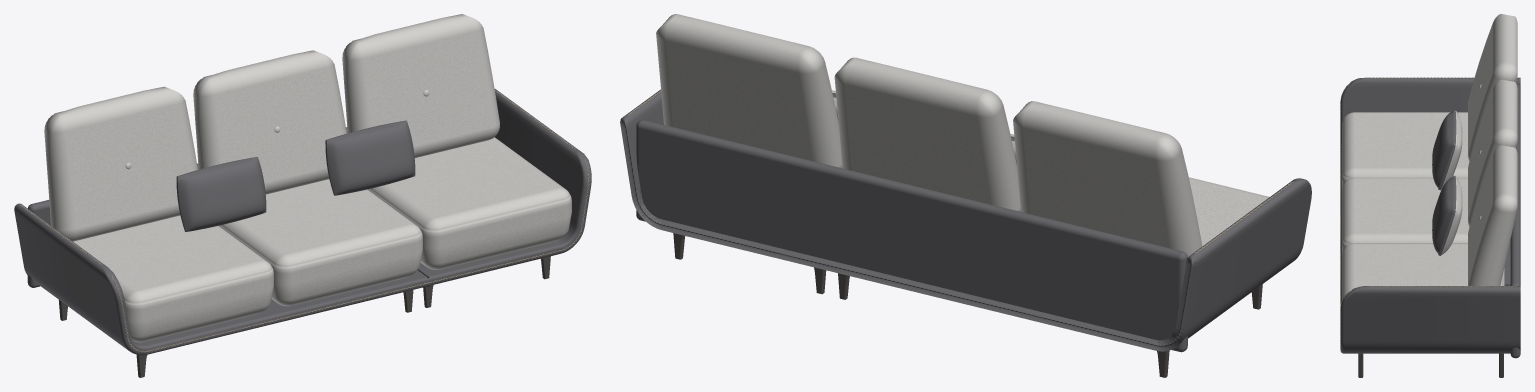
Rendered from own120.glb.
The picture shows the model from 3 angles, left to right: view 1: azimuth 30°, elevation 25°; view 2: azimuth 150°, elevation 25°; view 3: azimuth 270°, elevation 25°; orthographic projection. The views are drawn at different scales.
Bounding box in the file's own units: 2.5 × 1.02 × 0.8967.
6 materials, 1 textured.
